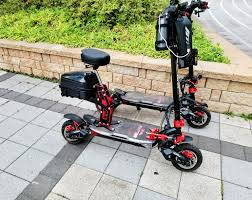kick_wheel: (169, 143, 202, 170), (187, 106, 210, 129), (61, 120, 83, 144)
